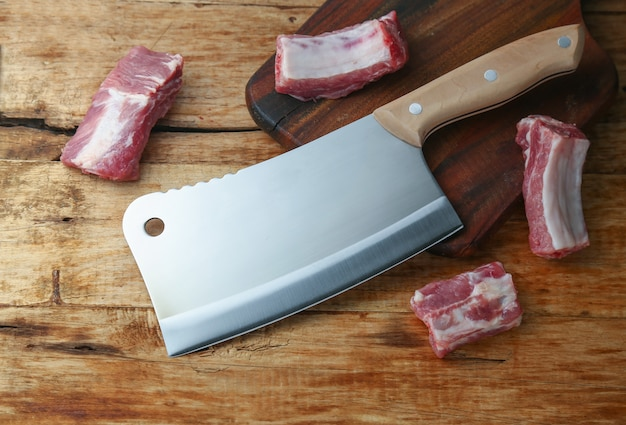knife: (118, 21, 586, 356)
